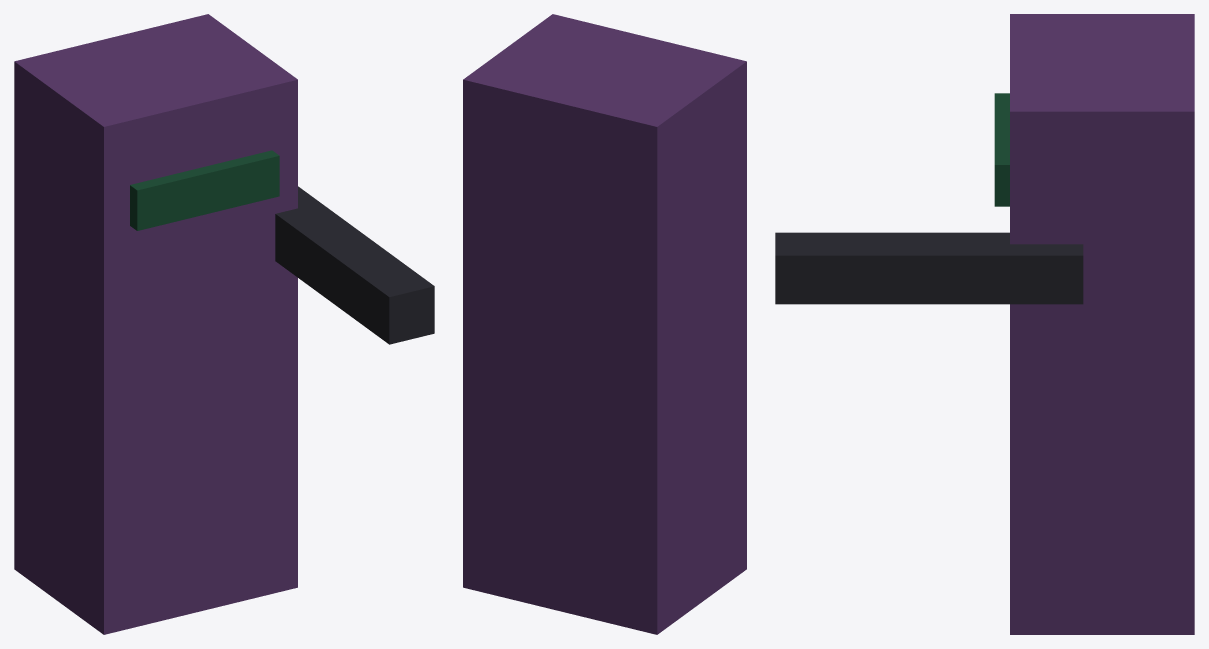
File: slowGunnerDown.obj
The picture shows the model from 3 angles, left to right: view 1: azimuth 30°, elevation 25°; view 2: azimuth 150°, elevation 25°; view 3: azimuth 270°, elevation 25°; orthographic projection. The views are drawn at different scales.
Size of the model in its own units: 0.67 by 1.5 by 1.09.
